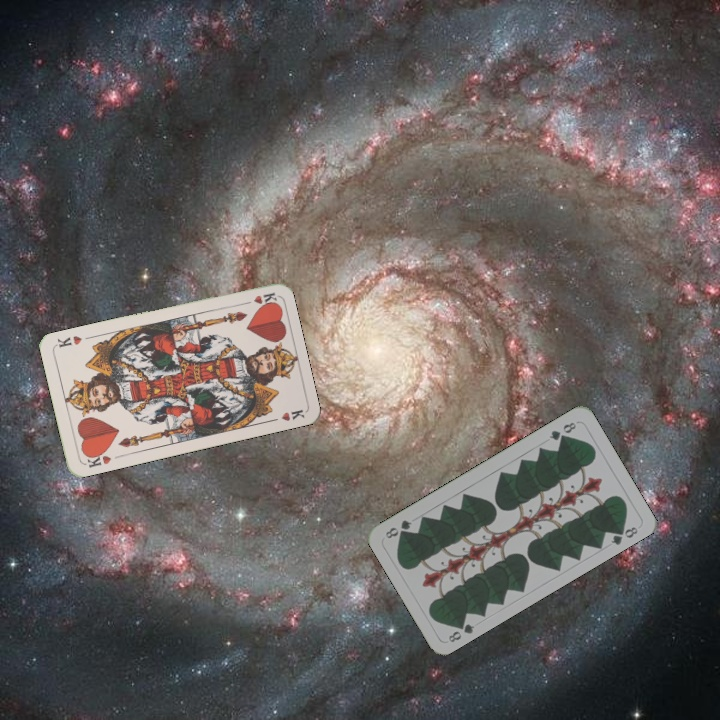G8: (444, 617, 477, 645), (545, 418, 579, 443)
HK: (237, 289, 278, 308), (81, 447, 114, 470)
